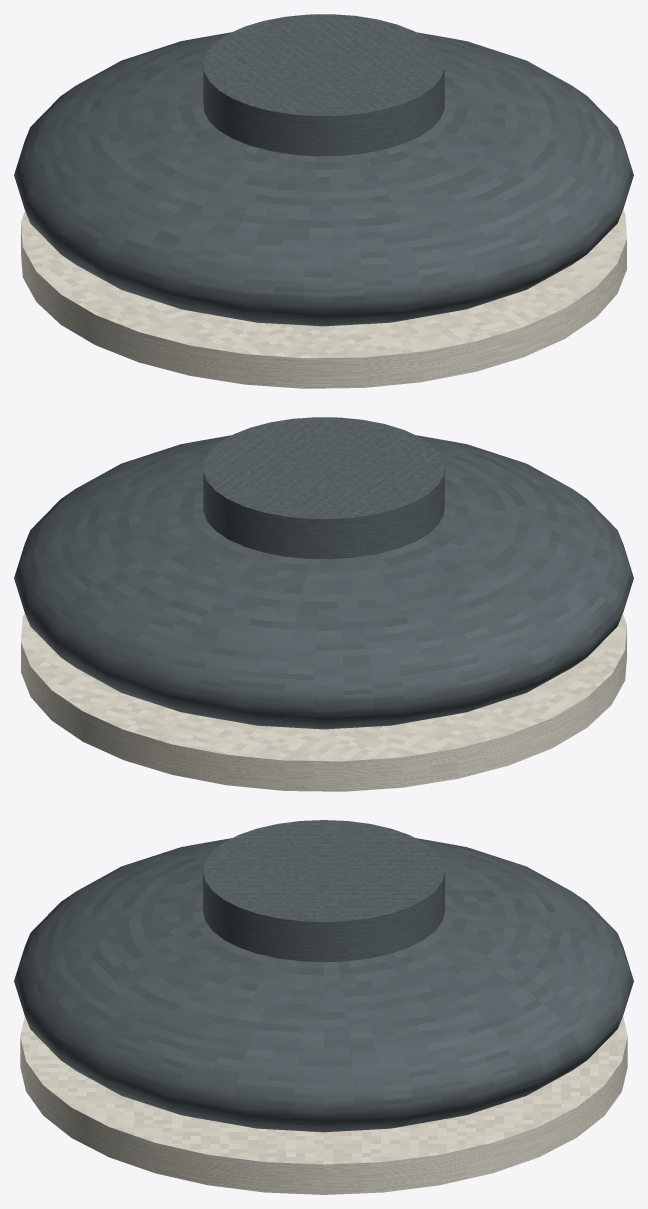
Rendered from highbay.glb.
3 renders of one model, top to bottom at view 1: azimuth 30°, elevation 25°; view 2: azimuth 150°, elevation 25°; view 3: azimuth 270°, elevation 25°, orthographic.
Visible parts, largest first — view 1: shade, diffuser, mount; view 2: shade, diffuser, mount; view 3: shade, diffuser, mount.
Part boxes in pixels (x1=…): shade: x1=14, y1=32, x2=633, y2=326; diffuser: x1=21, y1=210, x2=626, y2=388; mount: x1=203, y1=14, x2=444, y2=156; shade: x1=14, y1=435, x2=633, y2=729; diffuser: x1=21, y1=613, x2=626, y2=791; mount: x1=203, y1=417, x2=444, y2=559; shade: x1=14, y1=838, x2=633, y2=1132; diffuser: x1=20, y1=1016, x2=627, y2=1194; mount: x1=203, y1=820, x2=444, y2=962.
Size of the model in its own units: 0.6 by 0.2087 by 0.6.
Materials: 2 (2 with a texture image).
